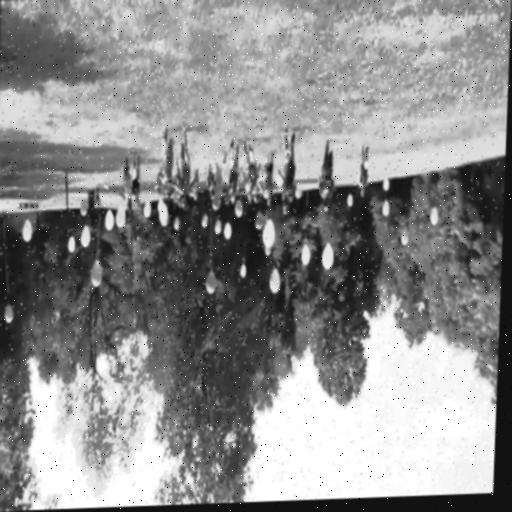balloon: (261, 215, 274, 246), (320, 242, 331, 267), (89, 259, 99, 286), (267, 267, 277, 292), (20, 219, 30, 240), (157, 202, 166, 225), (114, 204, 124, 224), (79, 224, 89, 244), (204, 272, 213, 294), (103, 210, 112, 228), (2, 304, 11, 322), (300, 244, 308, 263), (209, 195, 218, 211), (399, 227, 407, 244), (429, 207, 437, 222), (293, 183, 301, 198), (233, 200, 241, 215), (380, 200, 388, 214), (273, 173, 281, 187), (213, 216, 220, 232), (78, 198, 85, 214), (222, 223, 229, 238), (252, 214, 260, 227), (238, 261, 244, 277), (198, 214, 205, 227), (142, 201, 149, 214), (381, 175, 387, 189), (66, 238, 73, 250), (345, 192, 352, 203), (172, 215, 178, 227), (262, 246, 269, 256), (155, 198, 160, 209)
